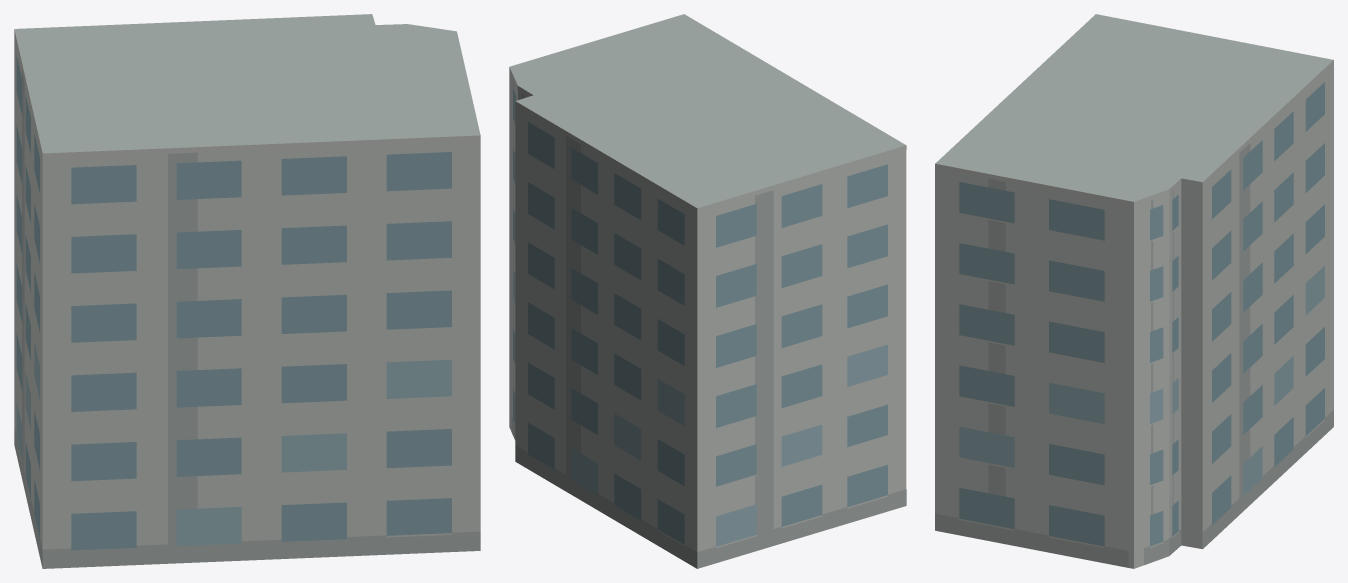
The model's file is survey-upis-32634235.glb.
3 views of the same model, side by side, from view 1: azimuth 30°, elevation 25°; view 2: azimuth 150°, elevation 25°; view 3: azimuth 270°, elevation 25° (orthographic). The views are drawn at different scales.
Visible parts, largest first — view 1: survey-upis-32634235.tmp; view 2: survey-upis-32634235.tmp; view 3: survey-upis-32634235.tmp.
Boxes of the visible parts, x1,y1,x2,y2 form: survey-upis-32634235.tmp: (14, 14, 480, 568); survey-upis-32634235.tmp: (509, 14, 906, 568); survey-upis-32634235.tmp: (935, 14, 1333, 568).
Bounding box in the file's own units: 20.1 × 18.3 × 18.03.
